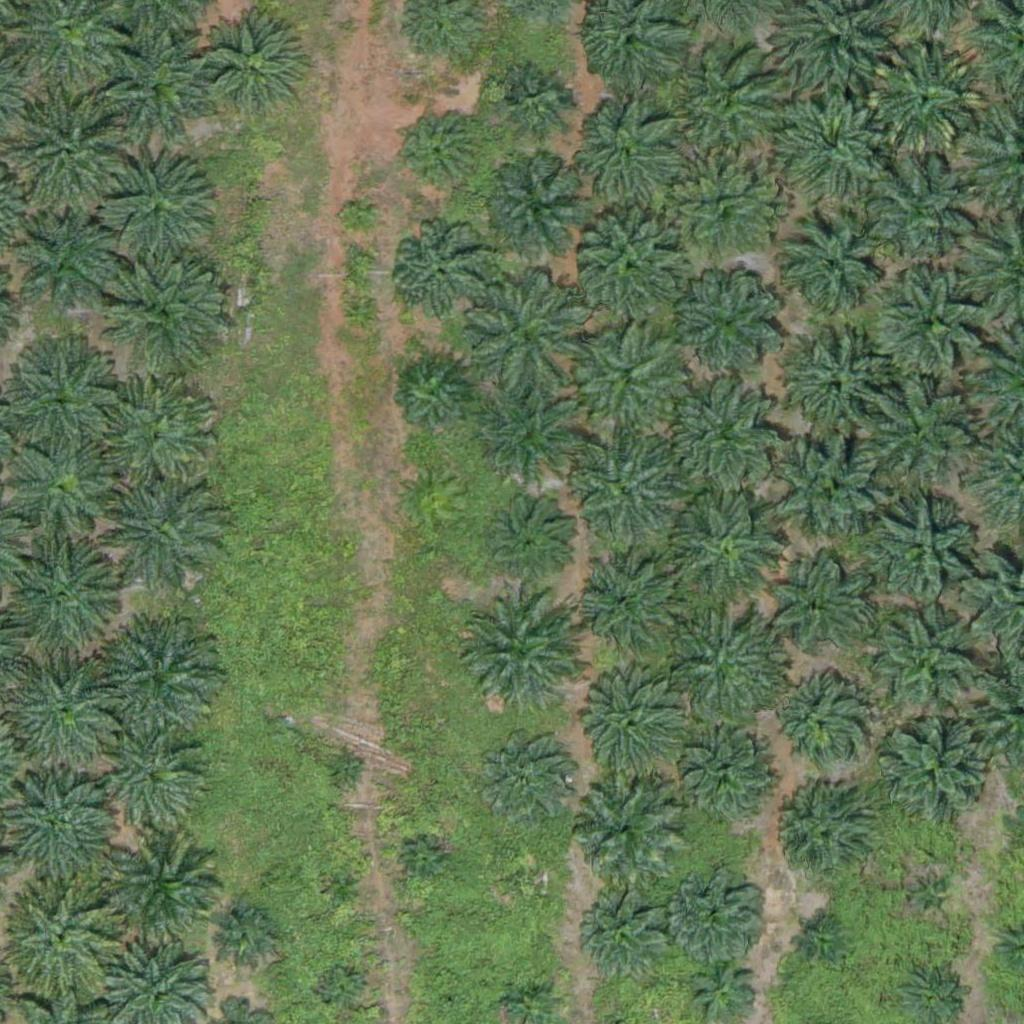Kelapa_Sawit: (100, 147, 225, 273), (99, 243, 224, 369), (1, 95, 126, 221), (461, 269, 586, 395), (94, 373, 219, 499), (1, 656, 126, 782), (98, 473, 223, 599), (94, 618, 219, 744), (105, 838, 230, 964), (454, 589, 579, 715), (864, 603, 989, 729), (666, 604, 791, 729), (670, 45, 783, 158), (664, 151, 777, 264), (576, 212, 689, 325), (566, 96, 679, 209), (197, 15, 310, 128), (7, 213, 120, 326), (674, 262, 787, 375), (782, 332, 895, 445), (565, 772, 678, 885), (669, 377, 782, 490), (669, 490, 782, 603), (767, 428, 880, 541), (881, 718, 994, 831), (103, 29, 215, 143), (861, 379, 973, 493), (869, 41, 981, 154), (868, 157, 980, 270), (775, 210, 887, 323), (775, 86, 887, 199), (876, 266, 988, 379), (574, 328, 686, 441), (475, 379, 587, 492), (570, 435, 682, 548), (572, 668, 684, 781), (863, 492, 975, 605), (8, 880, 120, 993), (486, 161, 586, 262), (105, 733, 205, 834), (475, 728, 575, 829), (578, 556, 678, 657), (676, 728, 776, 829), (766, 556, 866, 657), (768, 673, 868, 774), (766, 786, 866, 887), (671, 863, 771, 964), (390, 224, 490, 324), (12, 443, 112, 543), (397, 110, 485, 198), (487, 493, 574, 581), (584, 896, 671, 984), (396, 358, 471, 434), (498, 65, 573, 140), (216, 903, 279, 966), (692, 958, 754, 1021), (901, 871, 951, 921), (321, 967, 359, 1005), (325, 869, 363, 907), (326, 750, 364, 788), (340, 201, 377, 239), (803, 925, 841, 962), (511, 863, 549, 900), (407, 843, 444, 881), (438, 993, 463, 1018)
